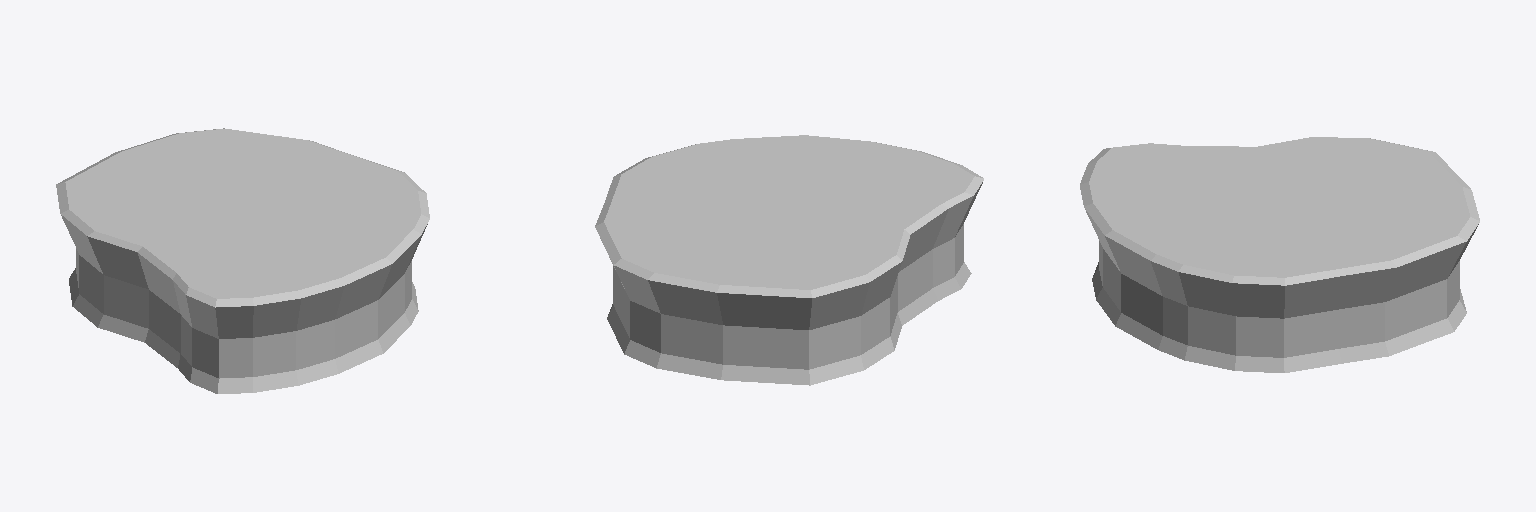
The model's file is platform_02.obj.
3 renders of one model, left to right at view 1: azimuth 30°, elevation 25°; view 2: azimuth 150°, elevation 25°; view 3: azimuth 270°, elevation 25°, orthographic.
Visible parts, largest first — view 1: platform_02_Cube.006; view 2: platform_02_Cube.006; view 3: platform_02_Cube.006.
Boxes of the visible parts, <box> form: platform_02_Cube.006: <box>56,128,429,393</box>; platform_02_Cube.006: <box>595,135,983,385</box>; platform_02_Cube.006: <box>1080,137,1479,372</box>.
Size of the model in its own units: 15.11 by 4.61 by 17.29.